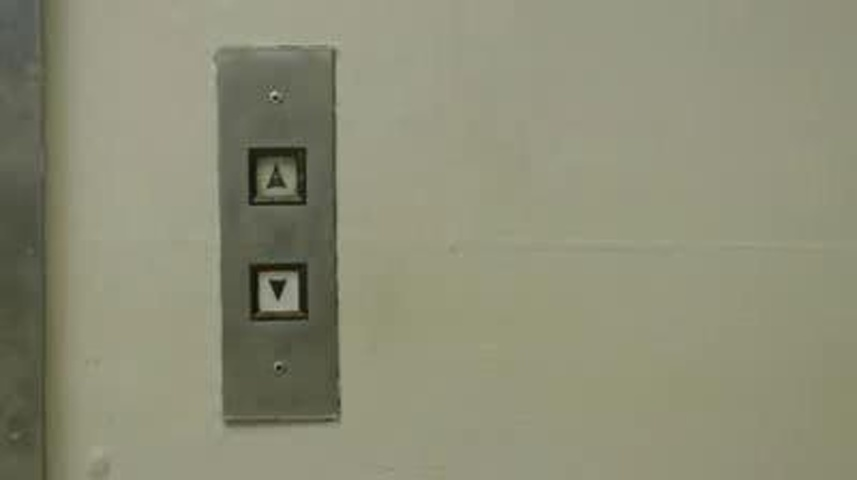up: (245, 142, 310, 209)
updown: (246, 257, 311, 324)
